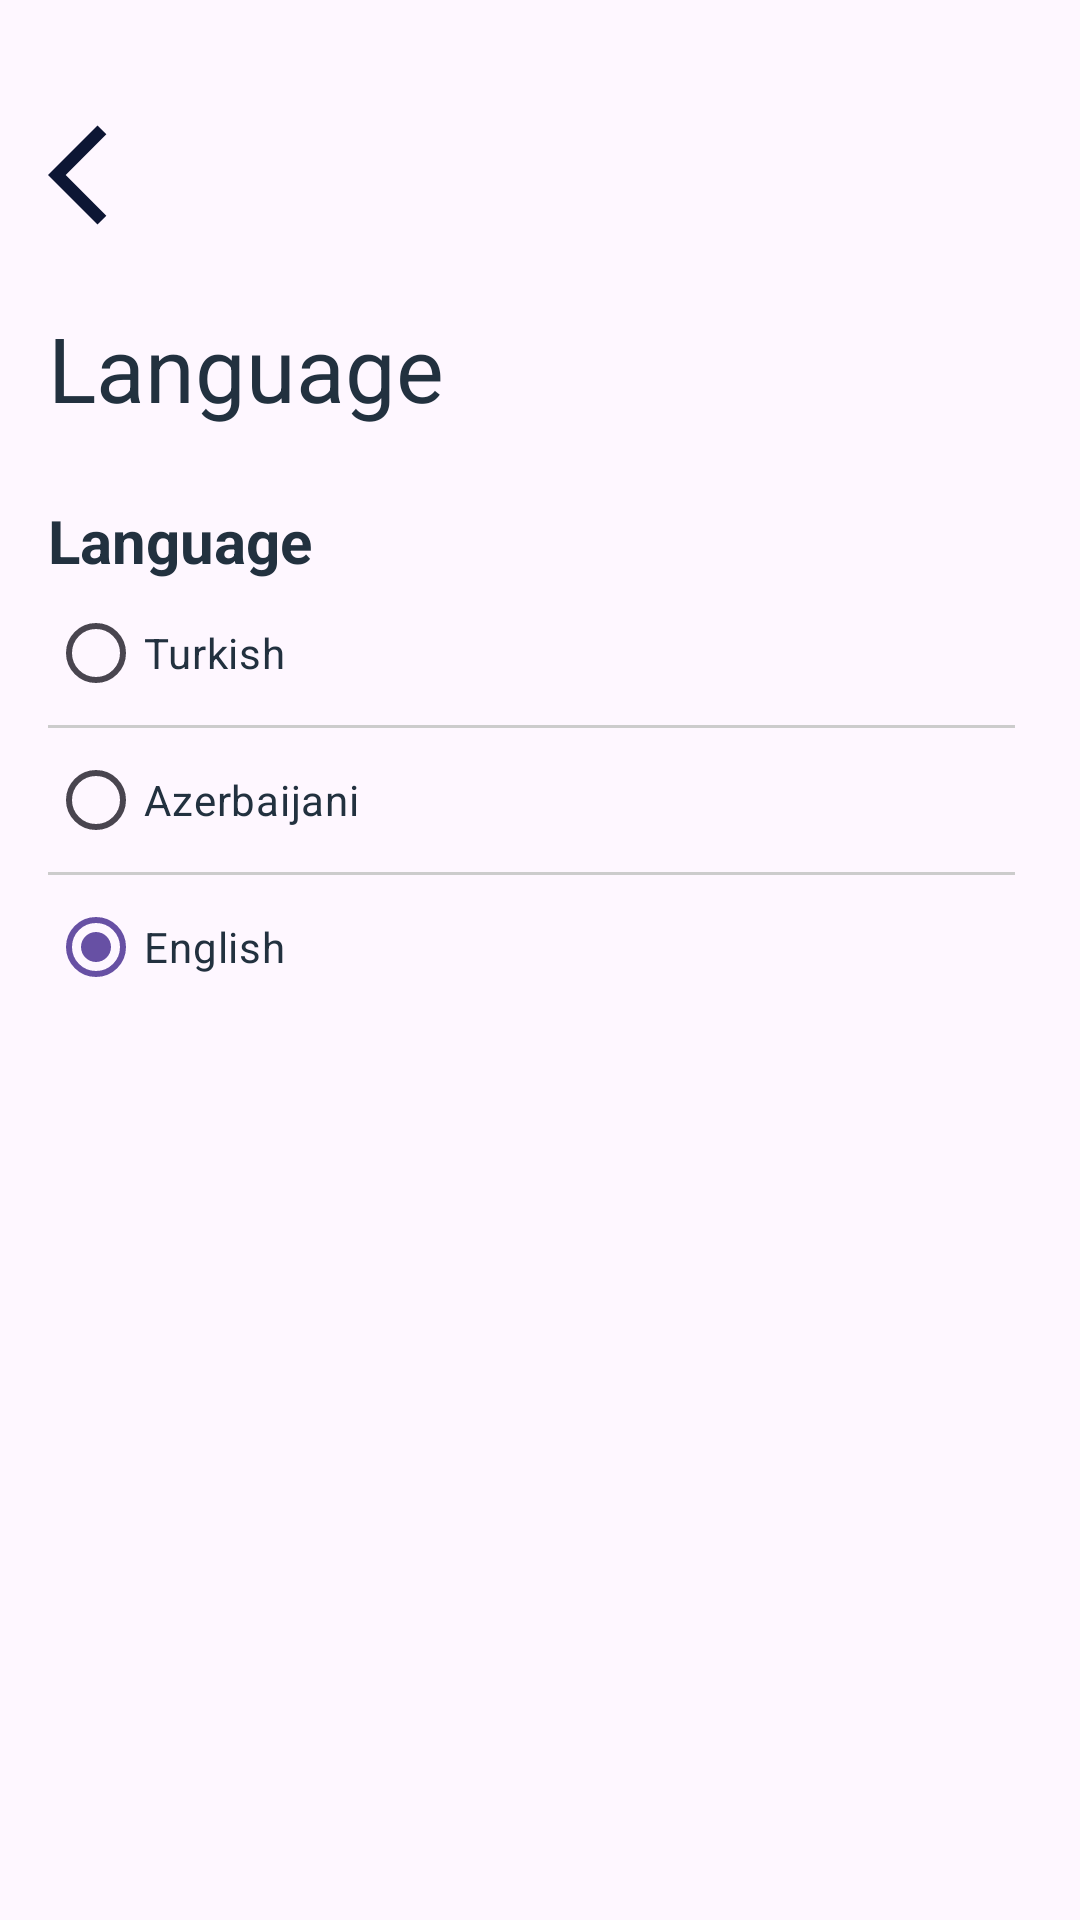

Icons on this 1080×1920 Android screen, each with the point to tap as (x,y):
arrow back darkblue: (77,175)
